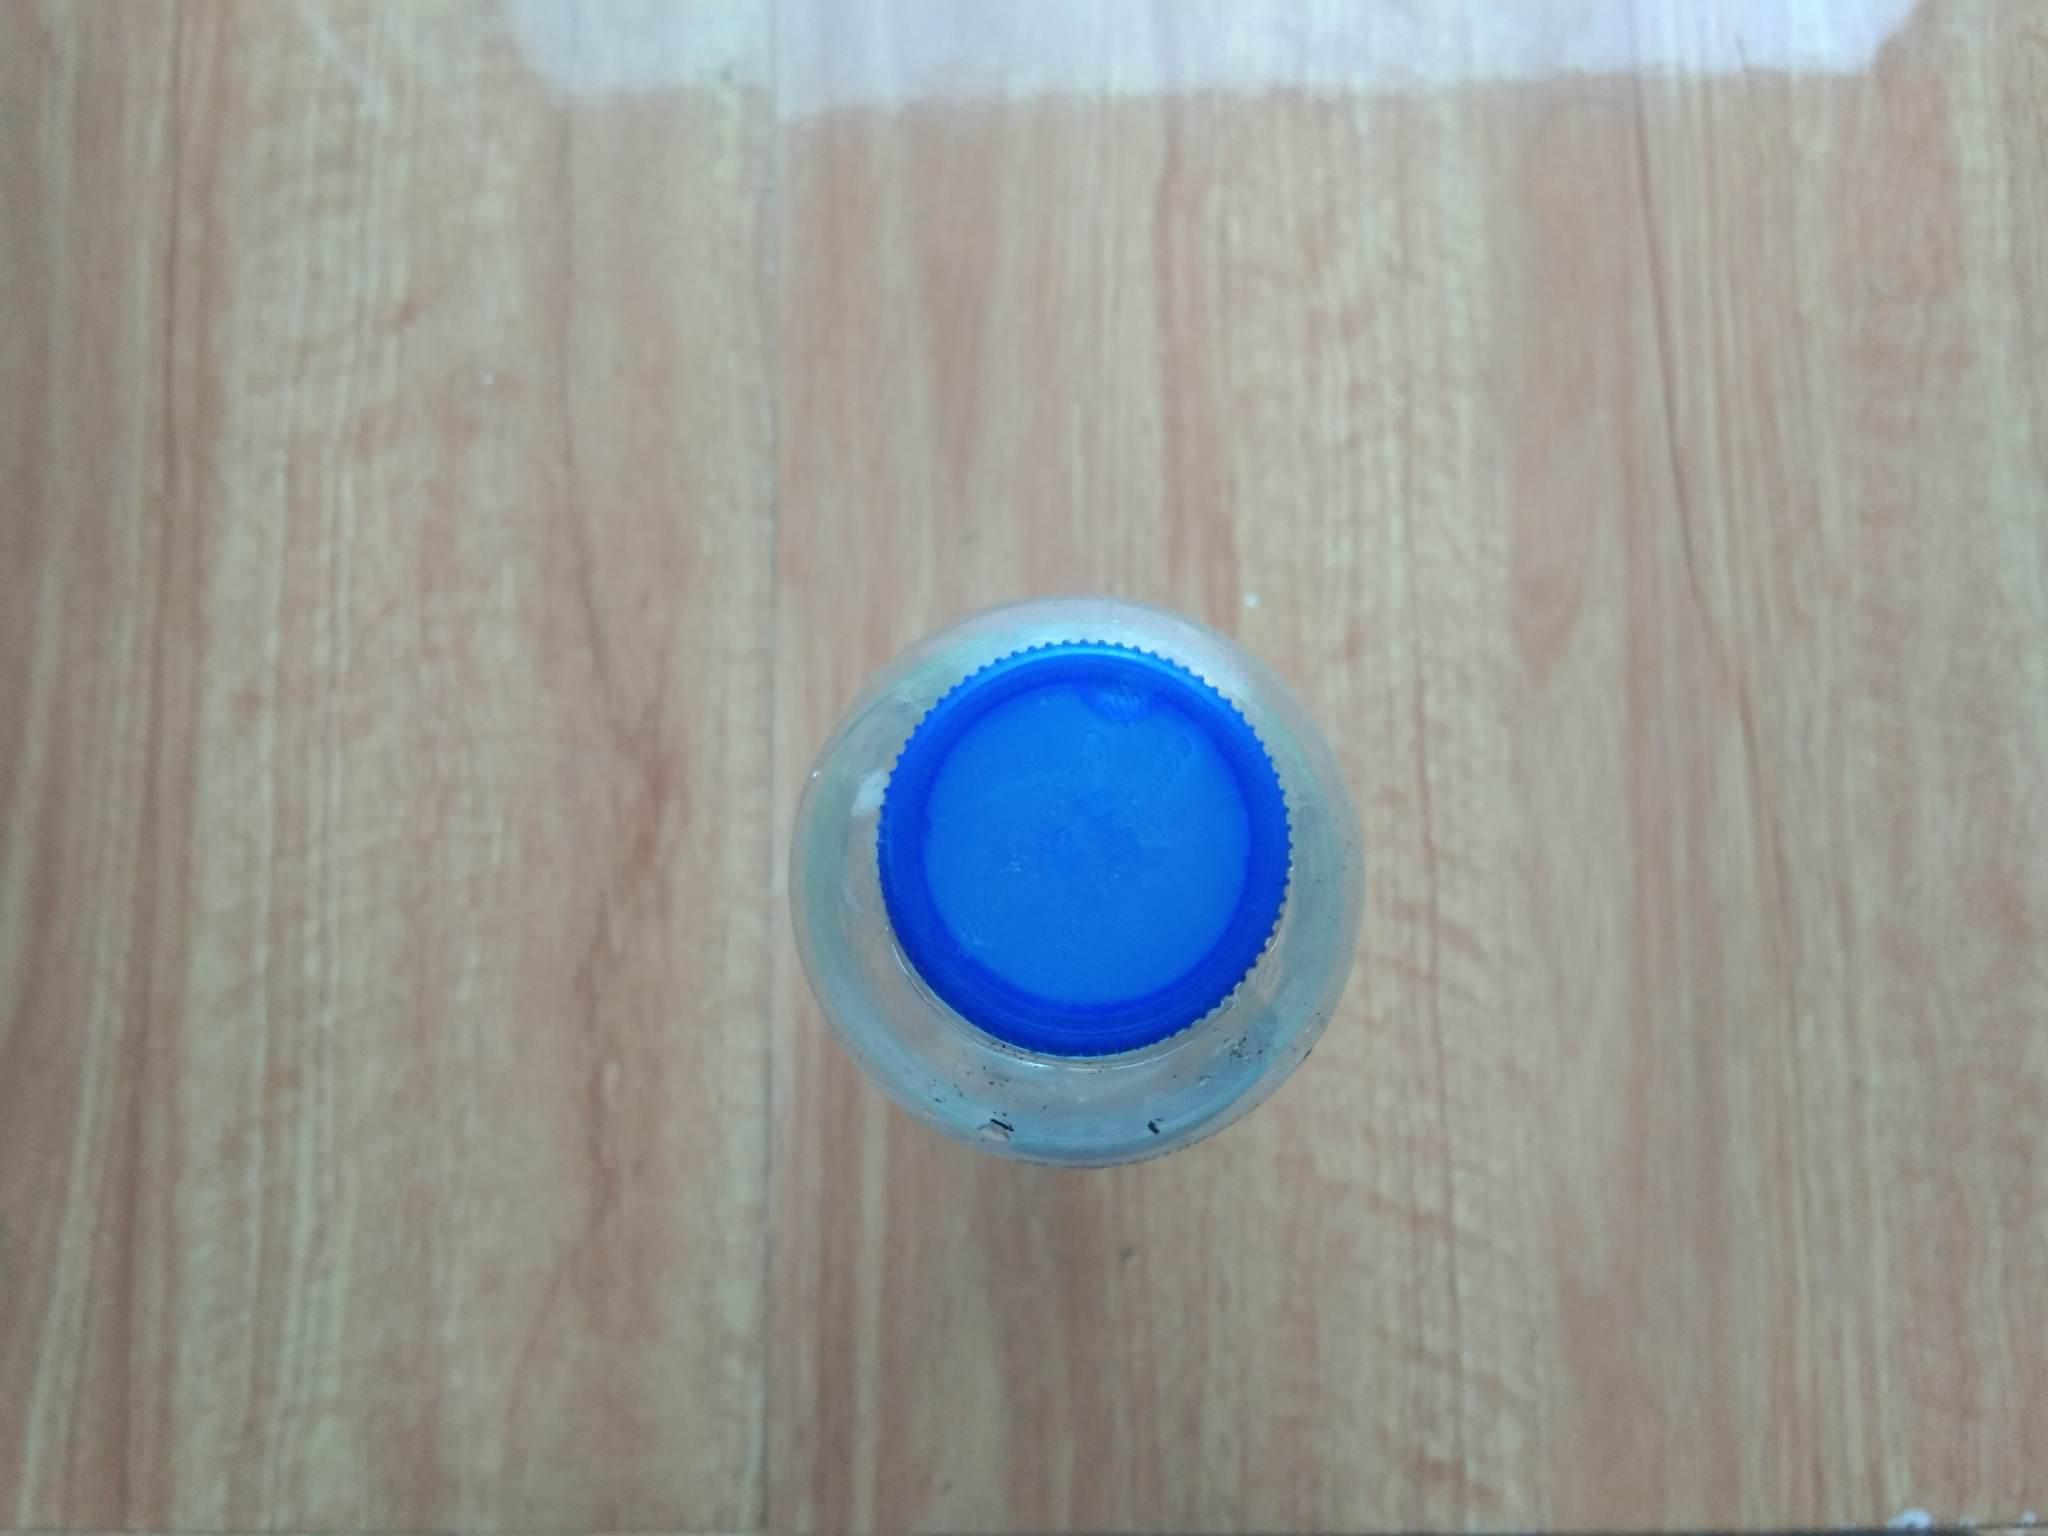plastic: (637, 561, 1488, 1242)
